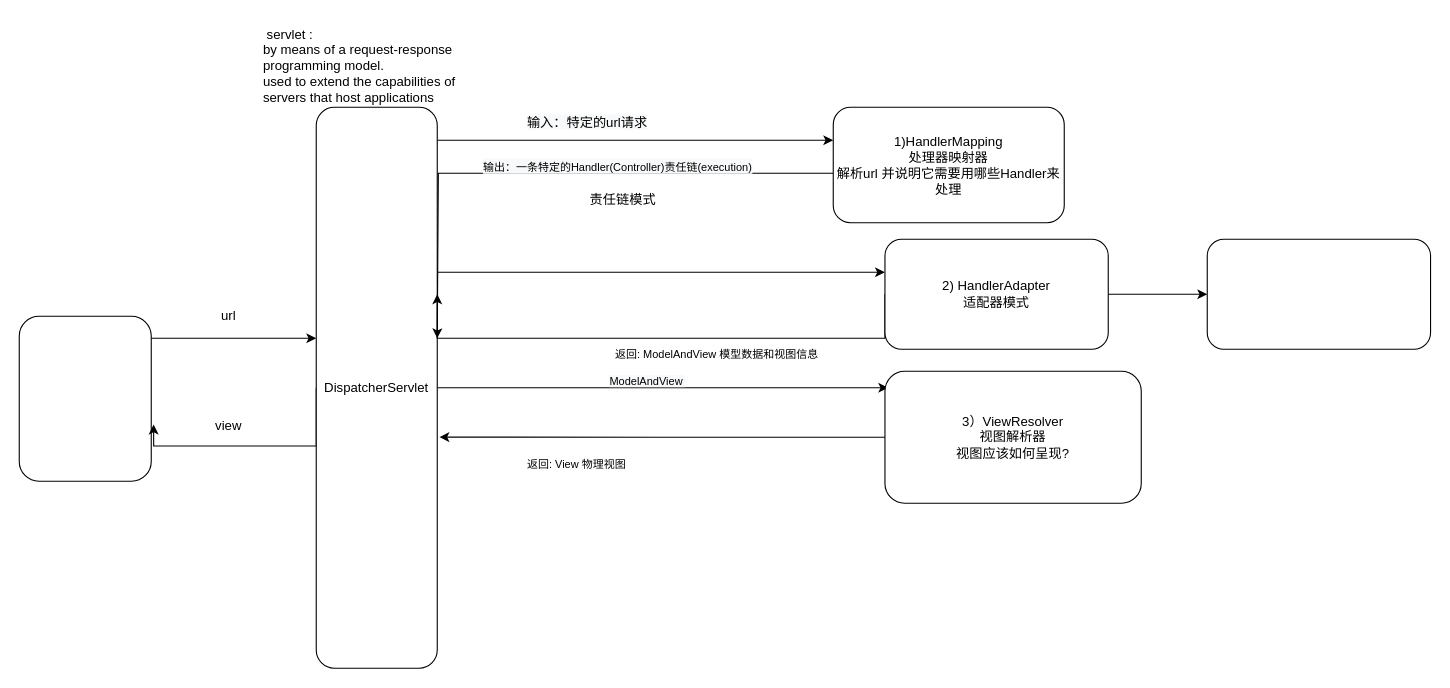
The diagram is 1450 pixels wide and 688 high, and some of its shapes have lost their labels. Each missing label, with the centre of its shape:
Client: the point at 84,398
特定的Controller 处理业务逻辑: the point at 1318,293
